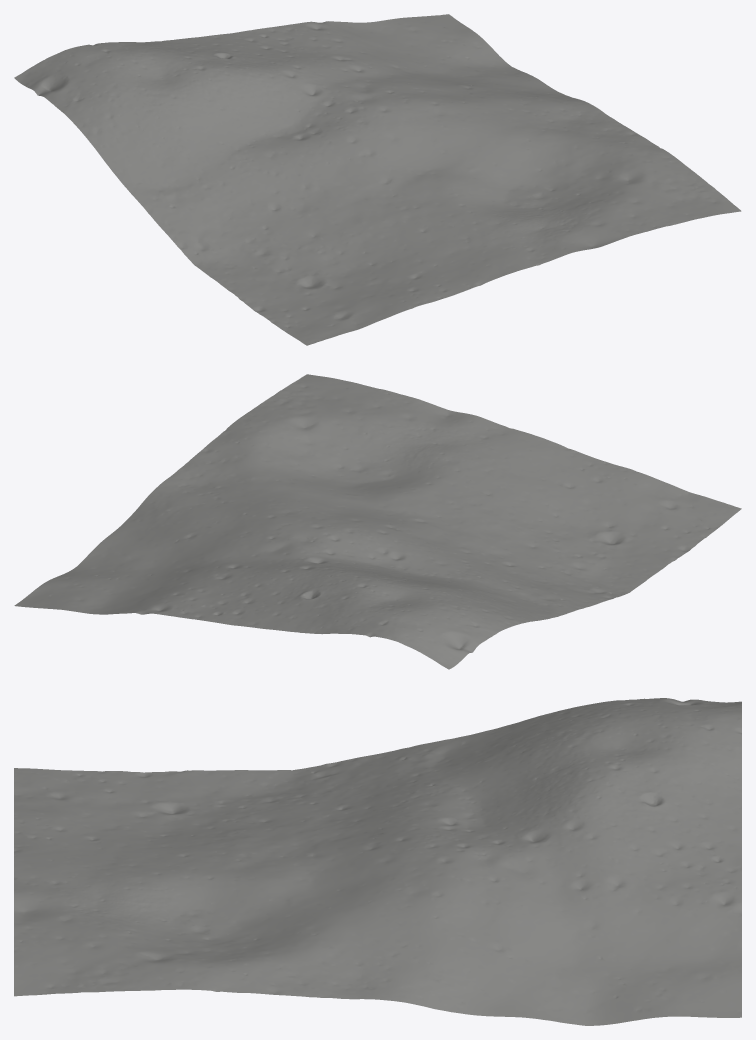
Rendered from haworth.glb.
3 views of the same model, one above another, from view 1: azimuth 30°, elevation 25°; view 2: azimuth 150°, elevation 25°; view 3: azimuth 270°, elevation 25° (orthographic). The views are drawn at different scales.
Parts seen in each view (by area): view 1: Haworth terrain; view 2: Haworth terrain; view 3: Haworth terrain.
Boxes of the visible parts, x1,y1,x2,y2 form: Haworth terrain: [14, 14, 741, 345]; Haworth terrain: [14, 374, 741, 669]; Haworth terrain: [14, 698, 741, 1025].
Size of the model in its own units: 11995 by 2009 by 13995.
1 material, 1 textured.
